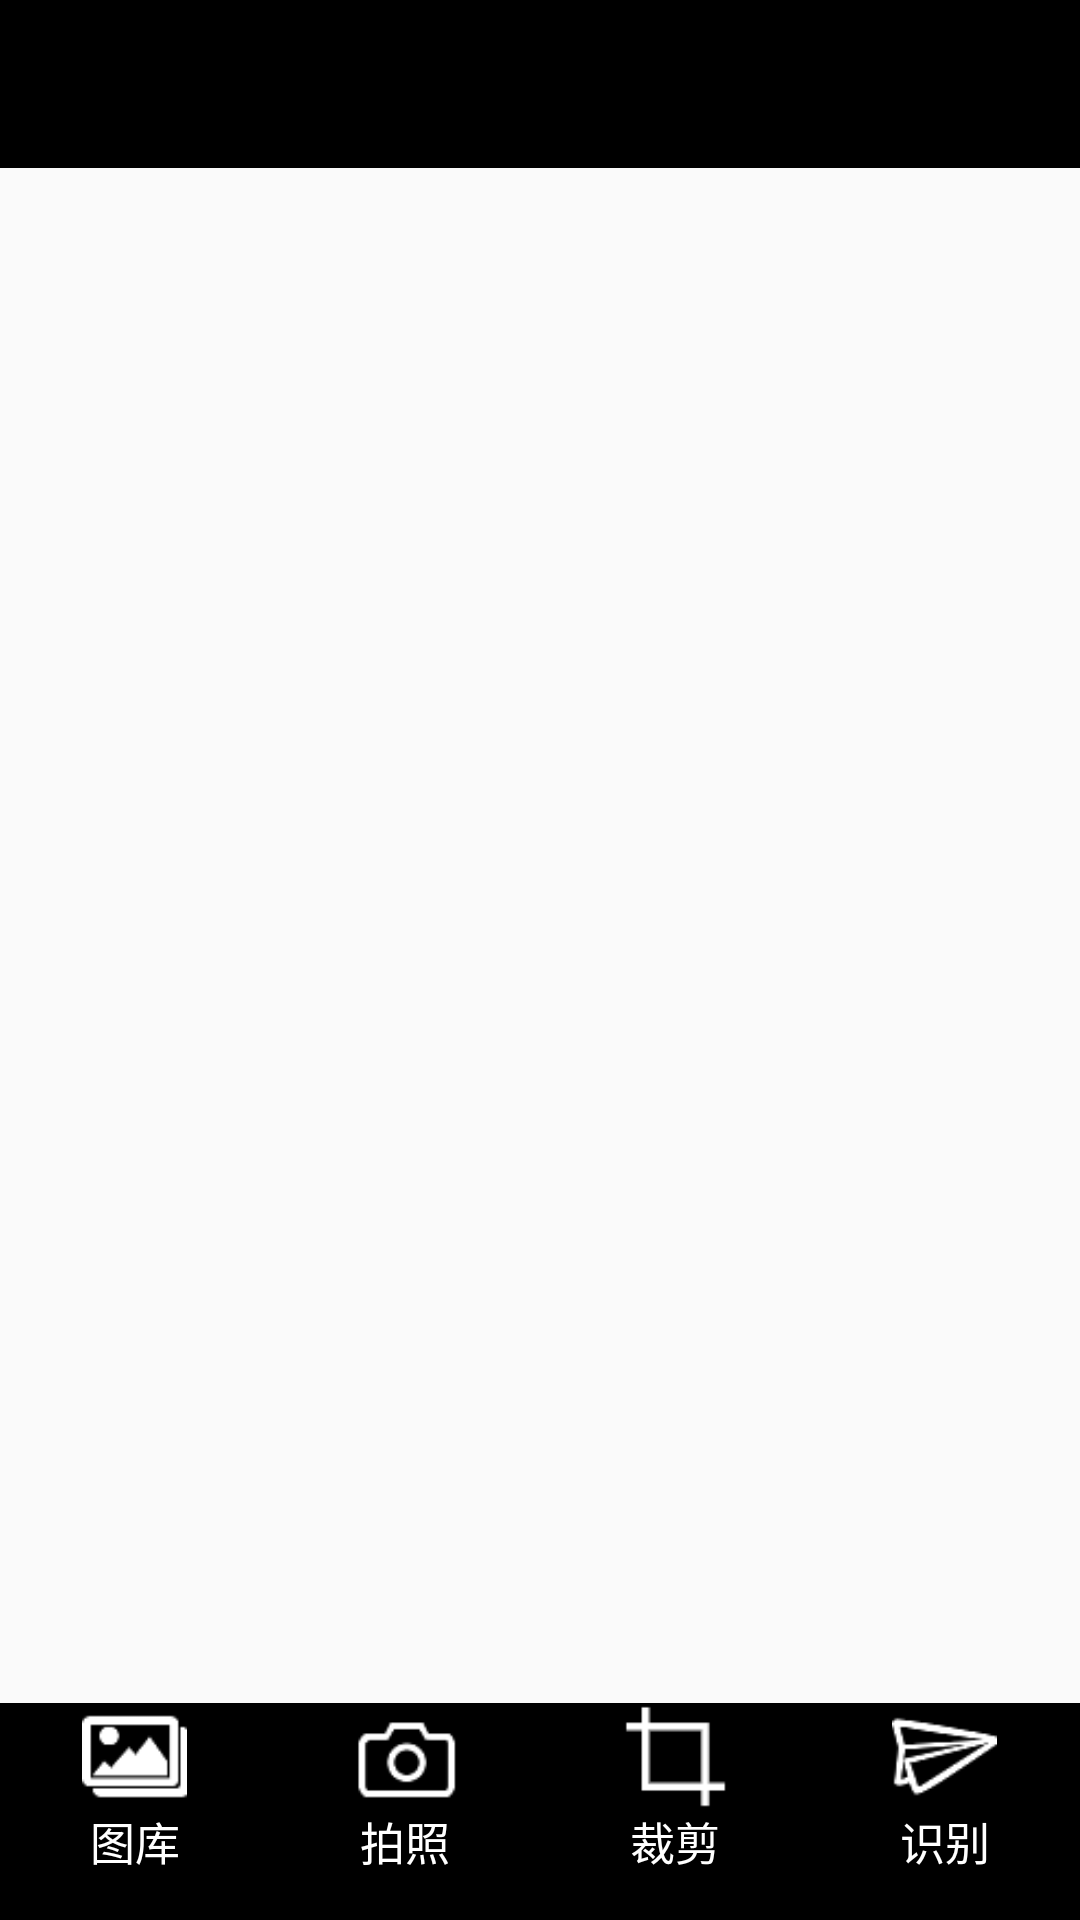

Screen size 1080w x 1920h. Icon name, then its center in pixels as (x,y):
send: (944,1757)
